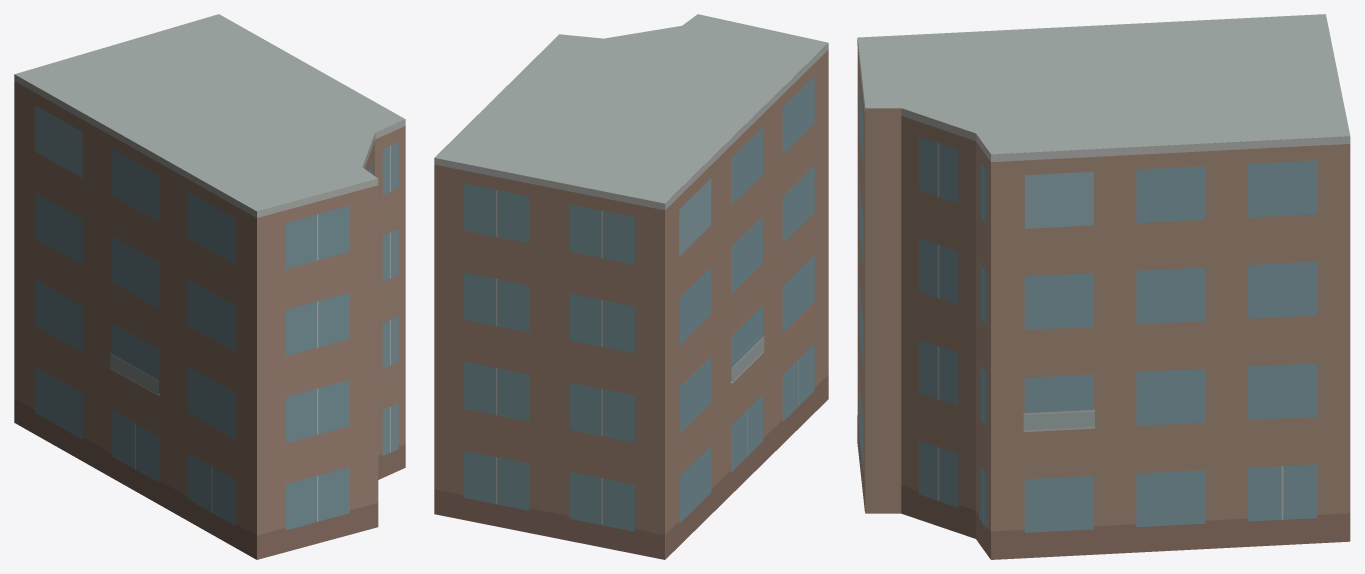
Rendered from survey-upis-32627903.glb.
The picture shows the model from 3 angles, left to right: view 1: azimuth 30°, elevation 25°; view 2: azimuth 150°, elevation 25°; view 3: azimuth 270°, elevation 25°; orthographic projection. The views are drawn at different scales.
Visible parts, largest first — view 1: survey-upis-32627903.tmp; view 2: survey-upis-32627903.tmp; view 3: survey-upis-32627903.tmp.
Part boxes in pixels (box(x1,y1,x2,y2)): survey-upis-32627903.tmp: box(14, 14, 405, 559); survey-upis-32627903.tmp: box(434, 14, 828, 559); survey-upis-32627903.tmp: box(857, 14, 1350, 559).
Size of the model in its own units: 9.52 by 12.8 by 14.11.
